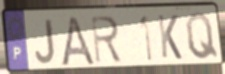1: (139, 15, 154, 62)
A: (59, 14, 97, 68)
J: (33, 18, 57, 66)
K: (156, 13, 184, 61)
Q: (184, 11, 220, 61)
R: (89, 14, 124, 66)
